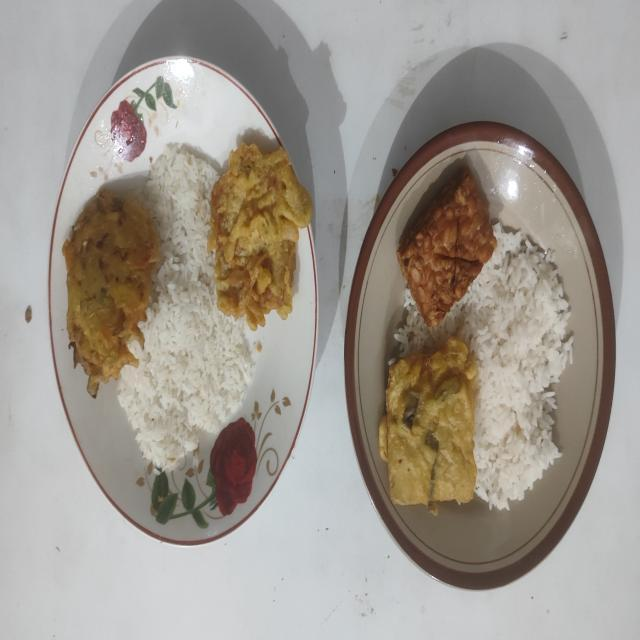nasi_putih: (394, 223, 573, 510), (118, 143, 255, 472)
tempe_goreng: (397, 169, 497, 327)
